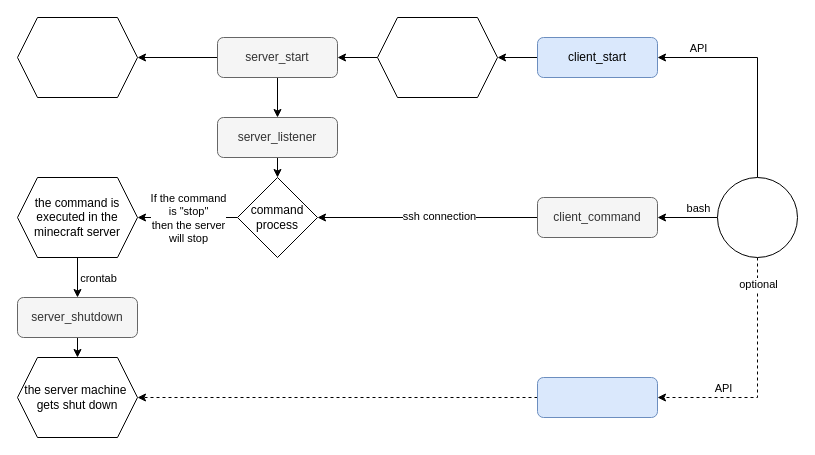
This 815x455 diagram has some shape labels left out. The centre of each missing label's shape, as x and y in pixels:
CLIENT: [757,217]
client_stop: [597,397]
the minecraft server screen start: [77,57]
the server machine starts: [437,57]
